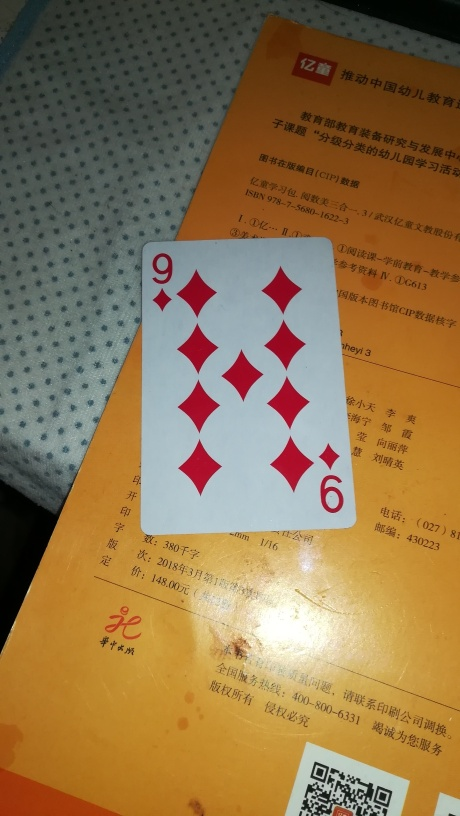fk 9: (140, 238, 360, 533)
